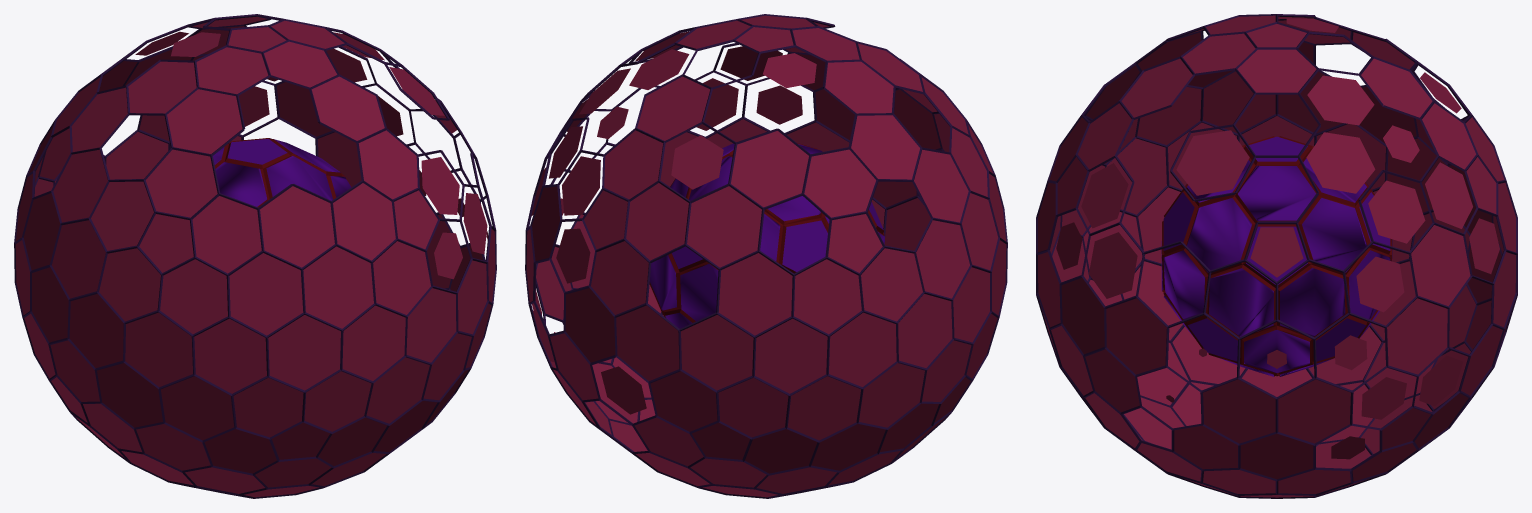
Rendered from Planet18.glb.
The picture shows the model from 3 angles, left to right: view 1: azimuth 30°, elevation 25°; view 2: azimuth 150°, elevation 25°; view 3: azimuth 270°, elevation 25°; orthographic projection.
Parts seen in each view (by area): view 1: Planet_18; view 2: Planet_18; view 3: Planet_18.
Boxes of the visible parts, bbox=[...] form: Planet_18: bbox=[14, 14, 496, 498]; Planet_18: bbox=[525, 14, 1007, 498]; Planet_18: bbox=[1036, 14, 1517, 498].
Size of the model in its own units: 3.48 by 3.5 by 3.47.
